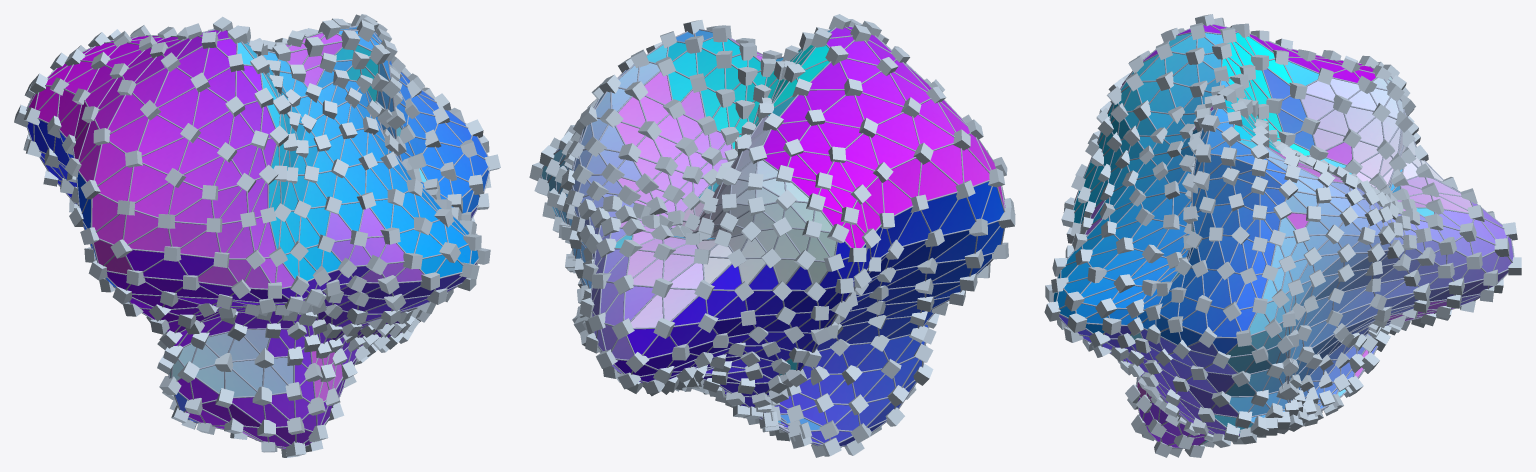
Rendered from finalModel.gltf.
The picture shows the model from 3 angles, left to right: view 1: azimuth 30°, elevation 25°; view 2: azimuth 150°, elevation 25°; view 3: azimuth 270°, elevation 25°; orthographic projection. The views are drawn at different scales.
Parts seen in each view (by area): view 1: main.001; view 2: main.001; view 3: main.001.
Boxes of the visible parts, x1=… form: main.001: x1=14, y1=14, x2=500, y2=457; main.001: x1=529, y1=14, x2=1015, y2=457; main.001: x1=1044, y1=14, x2=1521, y2=457.
Bounding box in the file's own units: 3.18 × 3.02 × 3.16.
3 materials, 1 textured.
